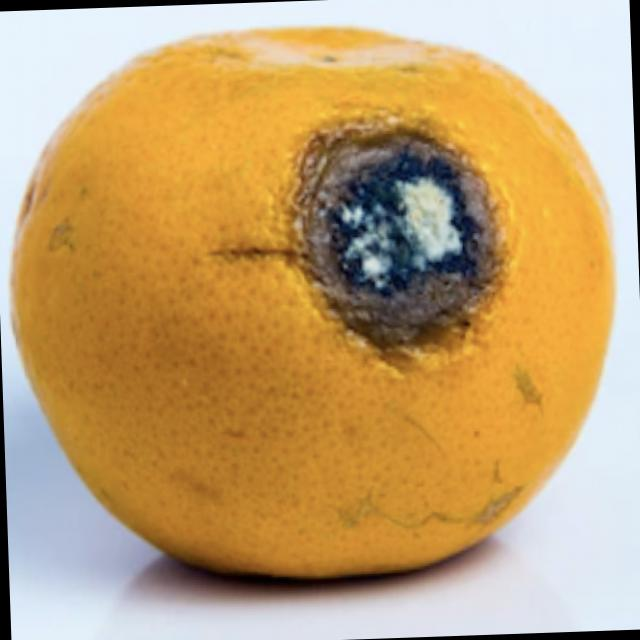rotten-orange: (1, 11, 624, 584)
